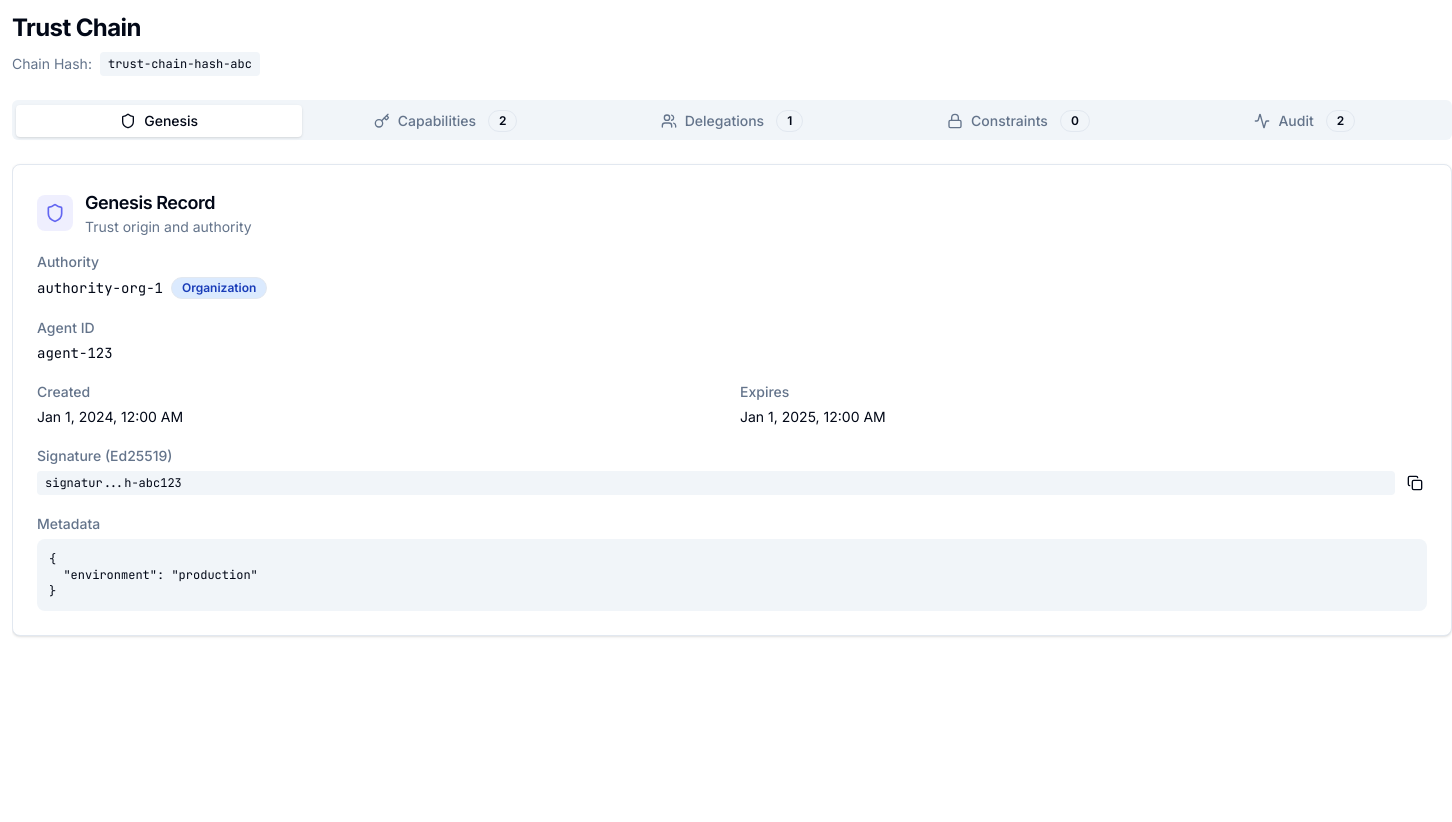
TrustChainViewer › Constraints tab › should show empty state when no constraints
Click the tab "Constraints 0". click: (1018, 121)
box: [875, 104, 1162, 138]
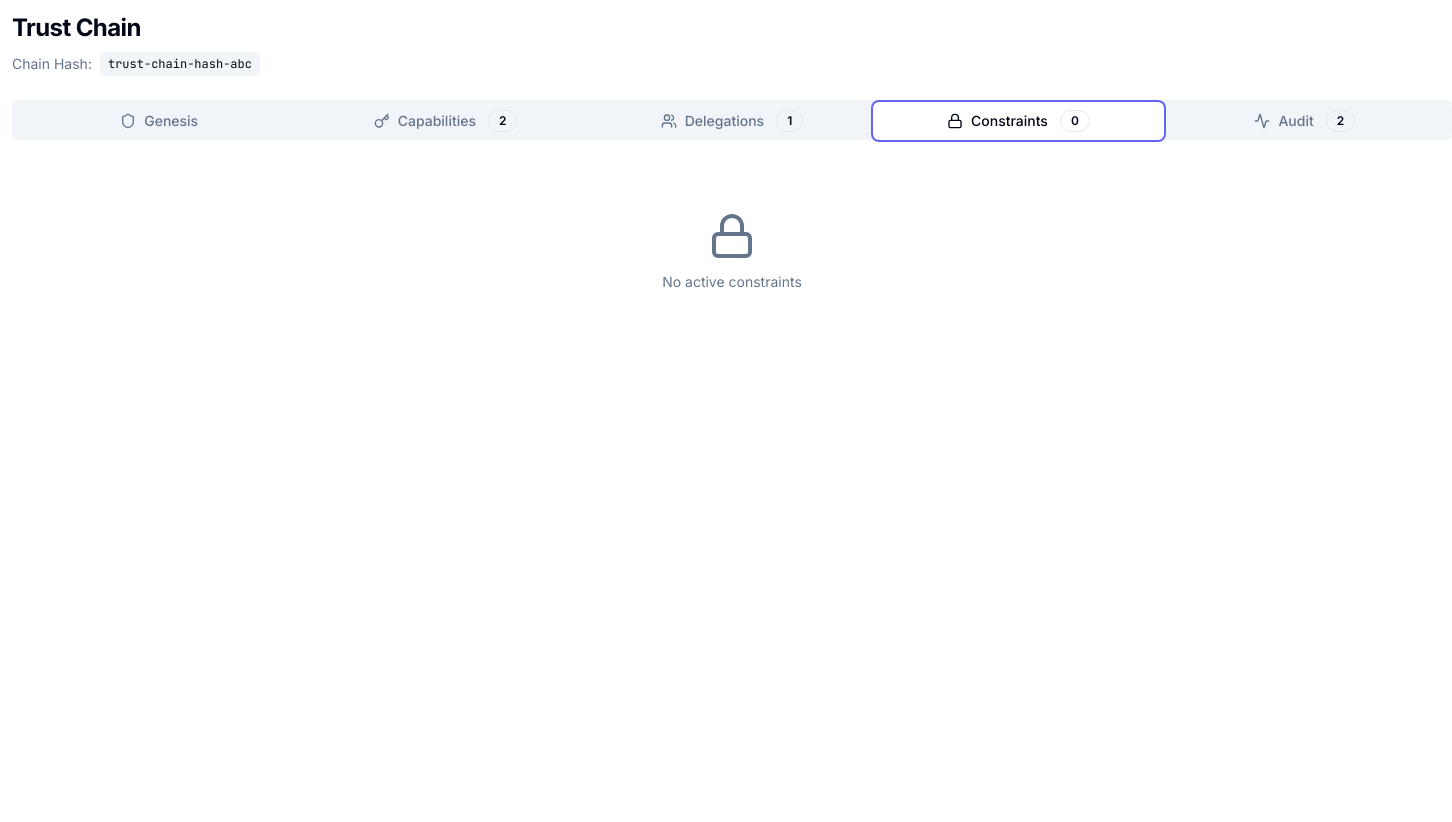
Expected: the text "No active constraints" is shown, [662, 272, 802, 292]
